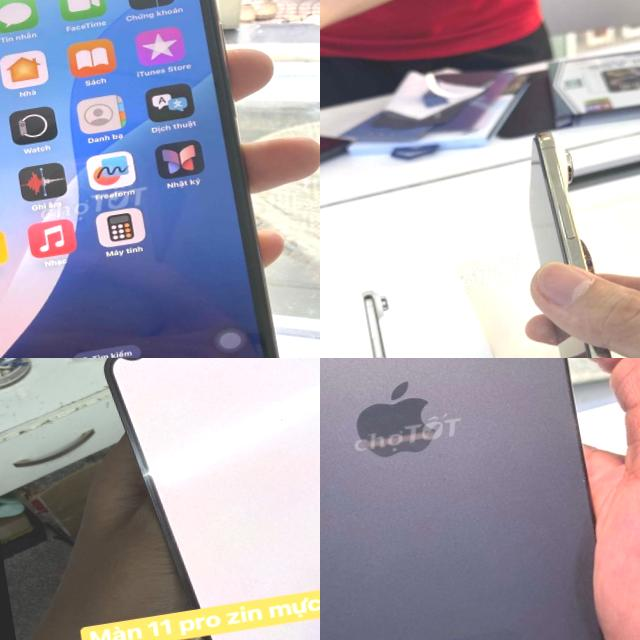gen_11: (99, 358, 320, 640)
gen_15: (320, 358, 640, 640)
gen_17: (501, 108, 640, 358)
gen_x_xs: (0, 0, 297, 358)
